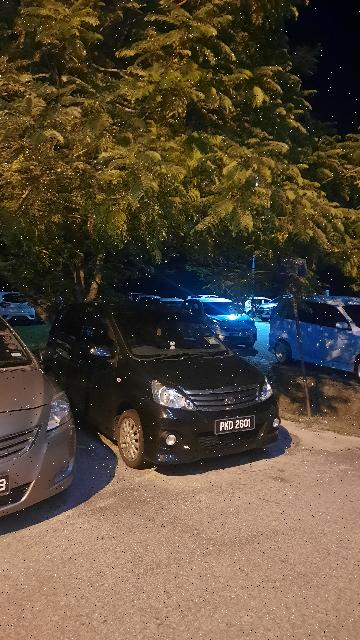License_Plate: (213, 415, 260, 437)
car: (44, 301, 285, 473)
